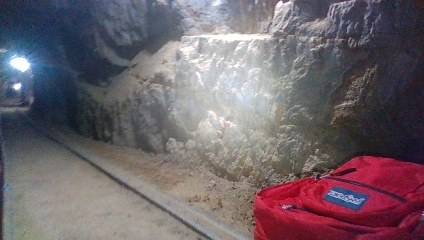backpack: (251, 155, 423, 237)
